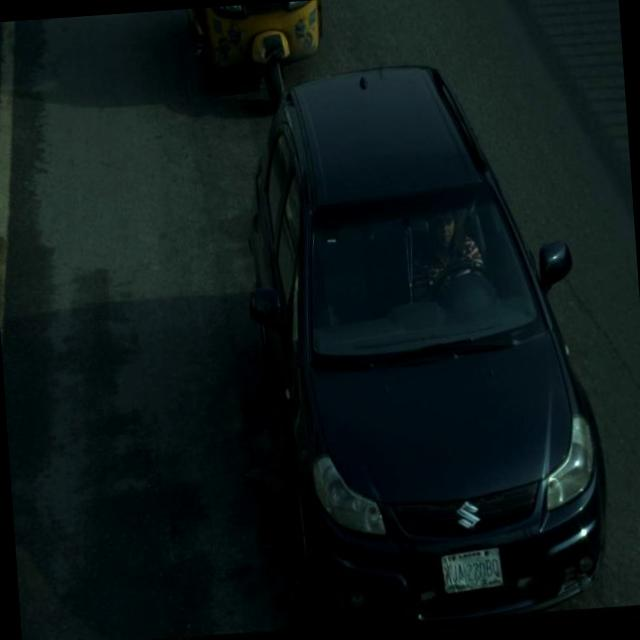person_with_seatbelt: (406, 212, 496, 306)
